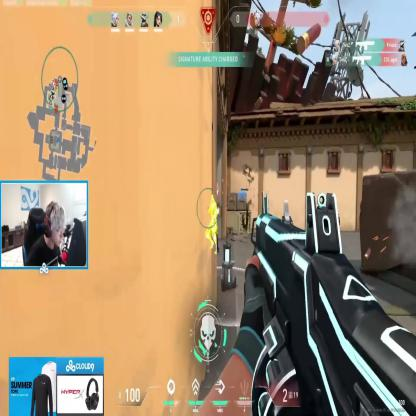enemy: (204, 193, 219, 253)
enemy_head: (210, 195, 214, 204)
